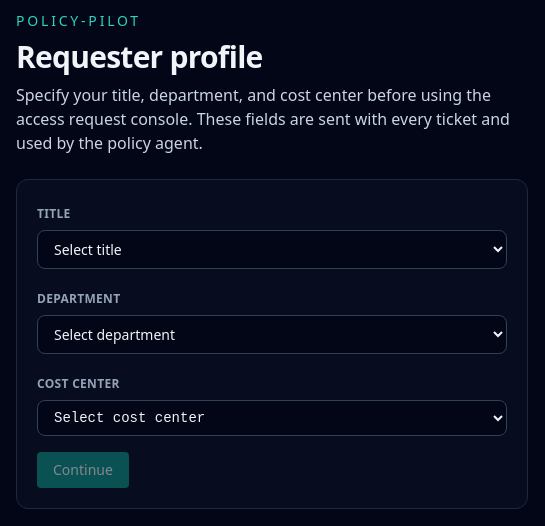
Test: ProfilePage › renders title, department, and cost center listboxes and keeps Continue disabled until all are chosen
Expected: the dropdown labelled "Department" is shown, 37,315 -> 507,354
Expected: the dropdown labelled "Cost center" is shown, 37,400 -> 507,436
Select "Senior Data Analyst" in the dropdown labelled "Title" at (272, 250), box 37,230 -> 507,269
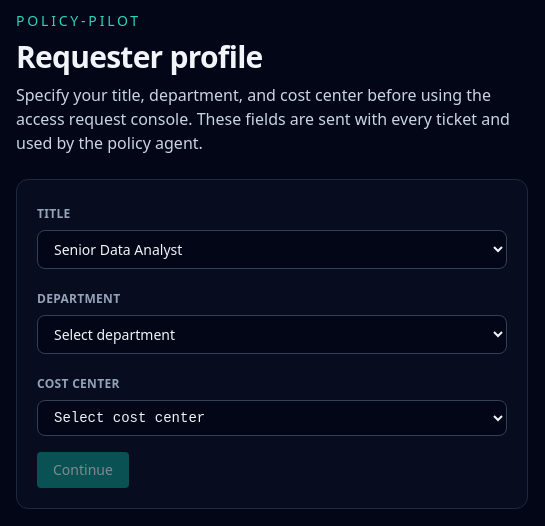
Select "Finance Analytics" in the dropdown labelled "Department" at (272, 334), box 37,315 -> 507,354
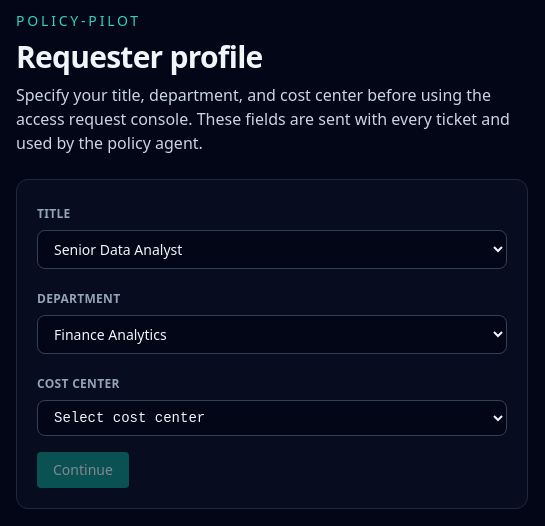
Expected: the button "Continue" is disabled, 37,452 -> 129,488
Select "CC-FIN-07" in the dropdown labelled "Cost center" at (272, 418), box 37,400 -> 507,436
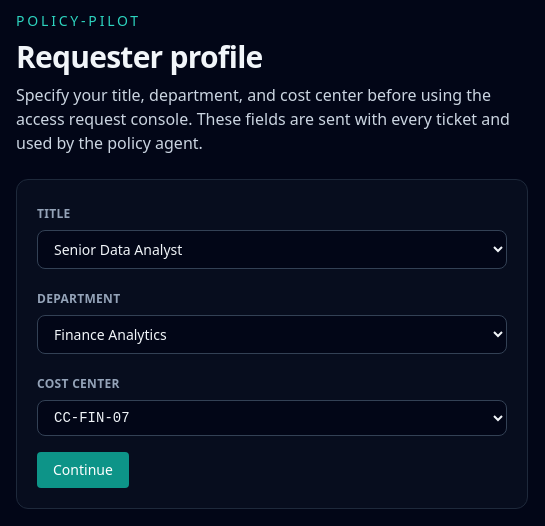
Now the button "Continue" is enabled, box 37,452 -> 129,488
